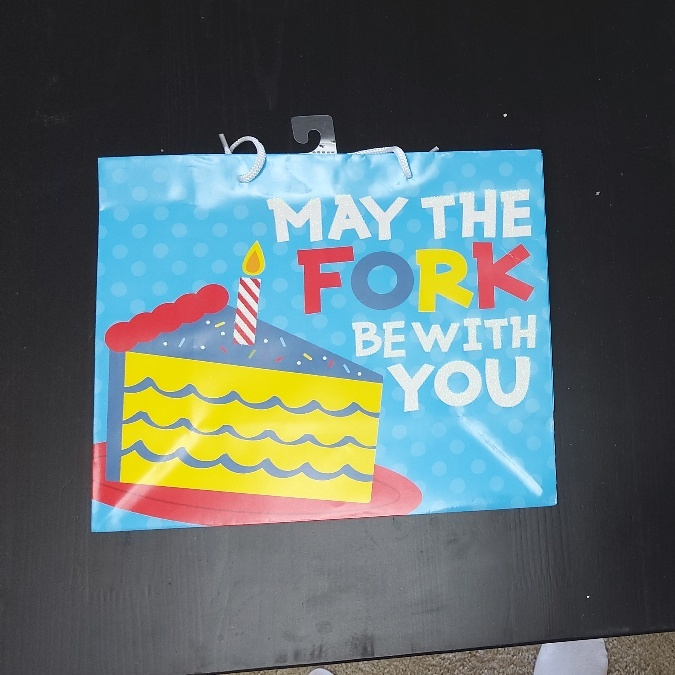paper_bag: (97, 154, 544, 514)
